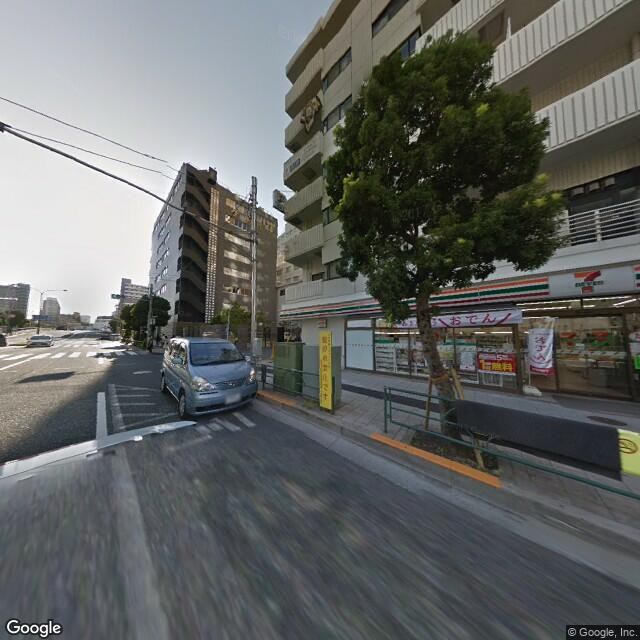7-eleven: (278, 260, 639, 321)
